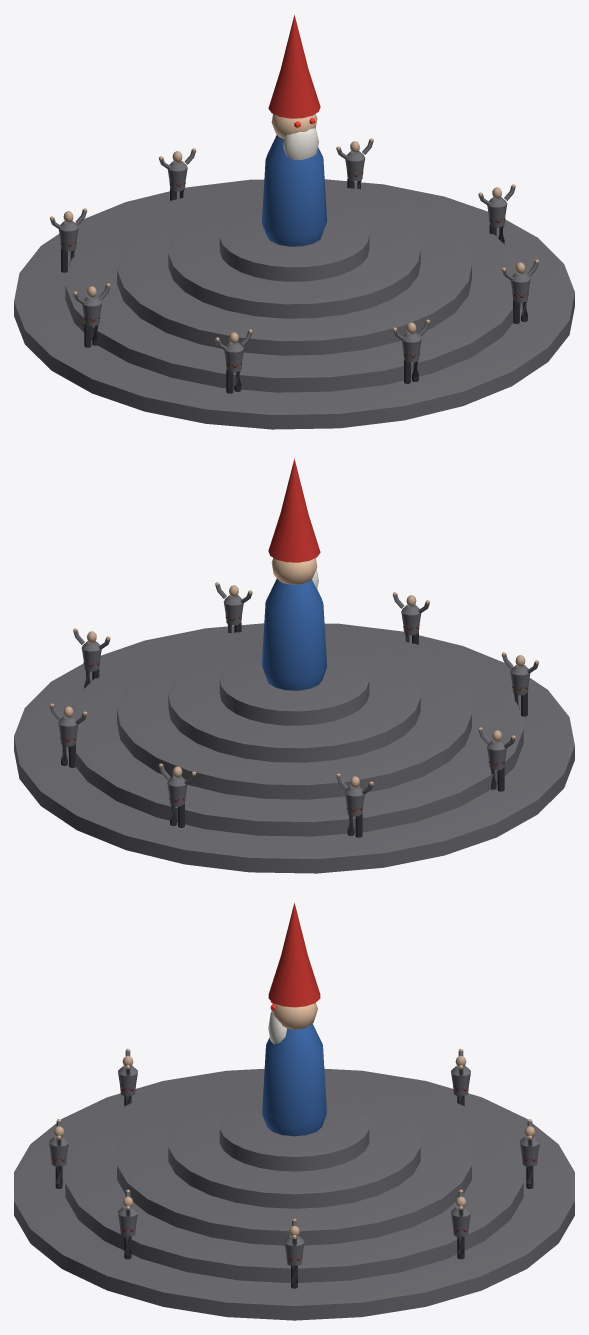
Rendered from gnome_altar.glb.
3 renders of one model, top to bottom at view 1: azimuth 30°, elevation 25°; view 2: azimuth 150°, elevation 25°; view 3: azimuth 270°, elevation 25°, orthographic.
Visible parts, largest first — view 1: gnome_altar; view 2: gnome_altar; view 3: gnome_altar.
Part boxes in pixels (<box>): gnome_altar: <box>14,14,574,429</box>; gnome_altar: <box>14,458,574,873</box>; gnome_altar: <box>14,902,574,1320</box>.
Bounding box in the file's own units: 12 × 7.01 × 11.91.
